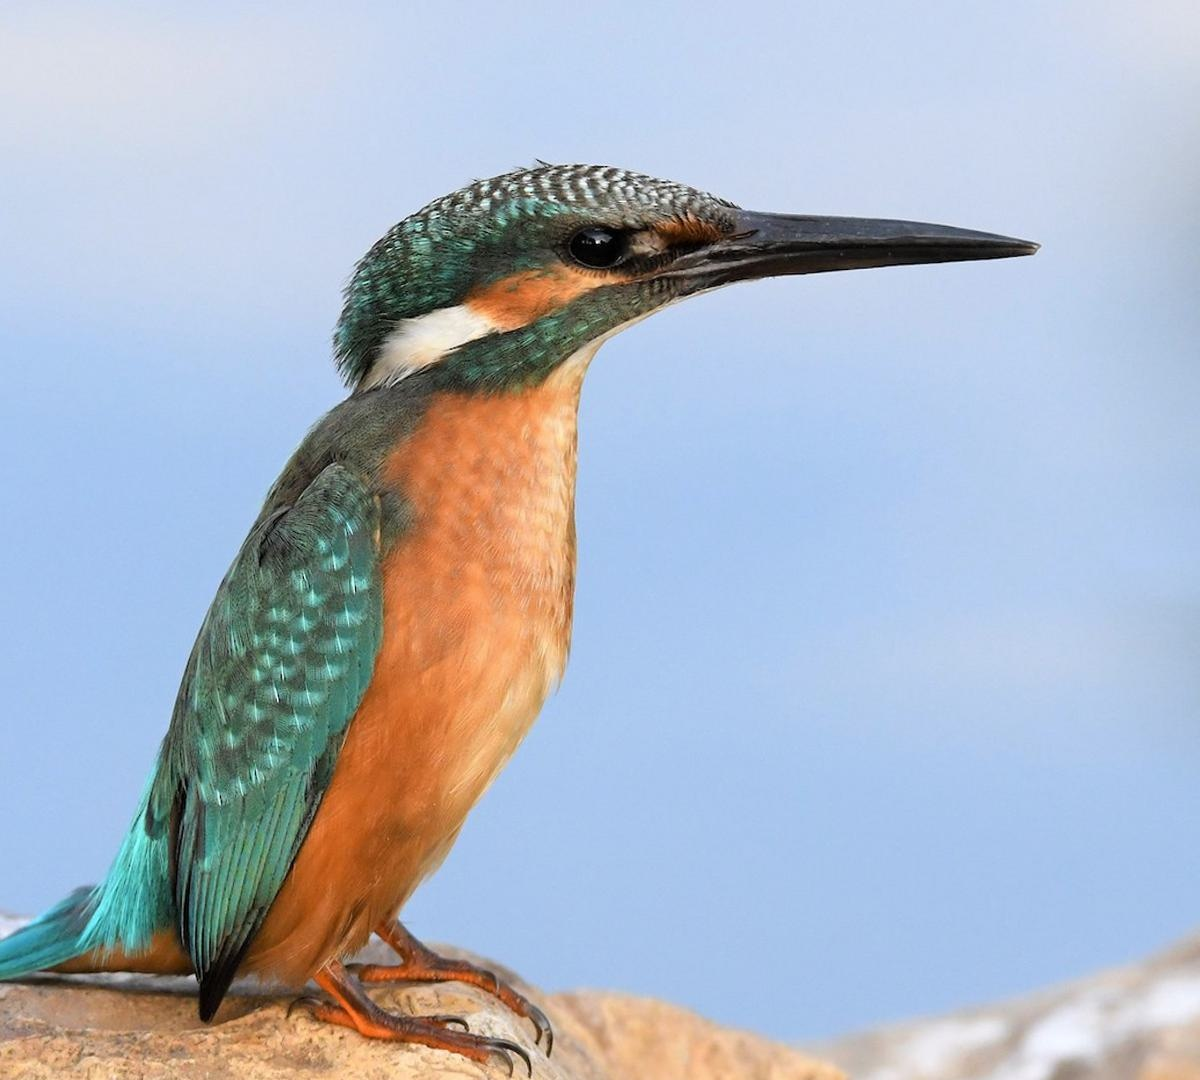kingfisher: (98, 139, 1074, 1063)
